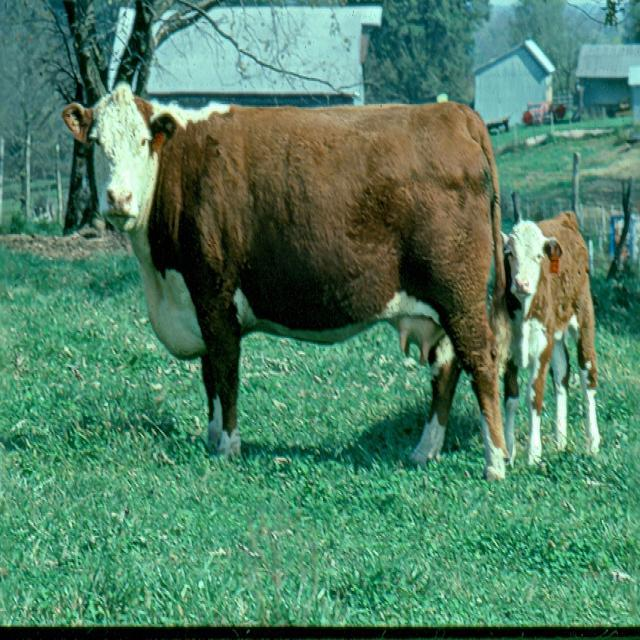cow: (59, 75, 507, 486), (502, 207, 598, 467)
